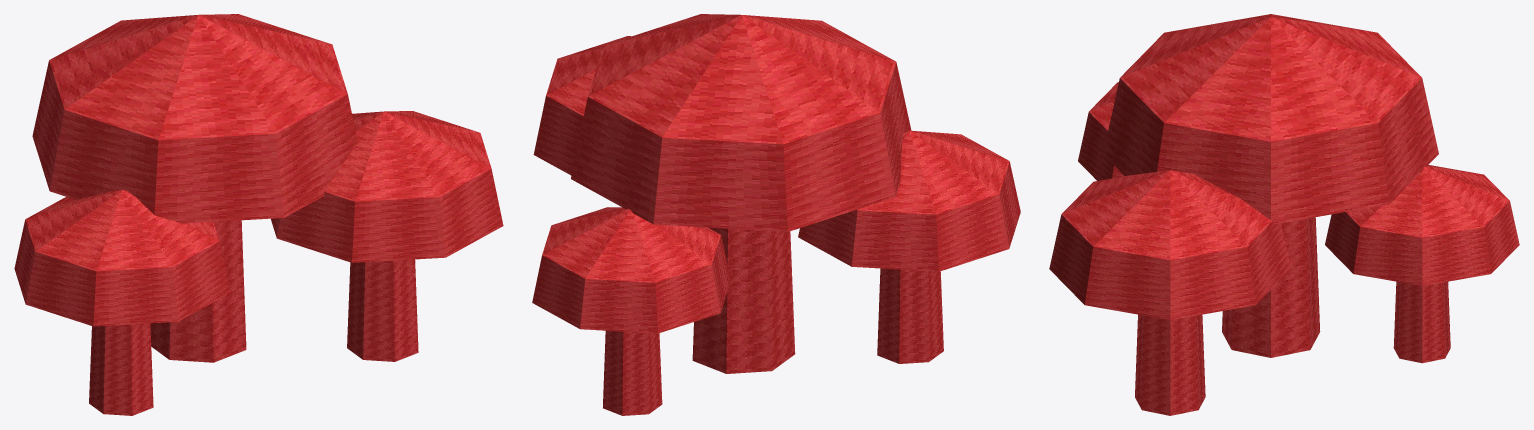
Rendered from cogumelo_vermelho.glb.
3 views of the same model, side by side, from view 1: azimuth 30°, elevation 25°; view 2: azimuth 150°, elevation 25°; view 3: azimuth 270°, elevation 25° (orthographic). The views are drawn at different scales.
Parts seen in each view (by area): view 1: cogumelo_vermelho; view 2: cogumelo_vermelho; view 3: cogumelo_vermelho.
Part boxes in pixels (x1,y1,x2,y2): cogumelo_vermelho: (14, 14, 503, 415); cogumelo_vermelho: (532, 14, 1020, 415); cogumelo_vermelho: (1049, 14, 1519, 415).
Size of the model in its own units: 0.5219 by 0.357 by 0.476.
1 material, 1 textured.
